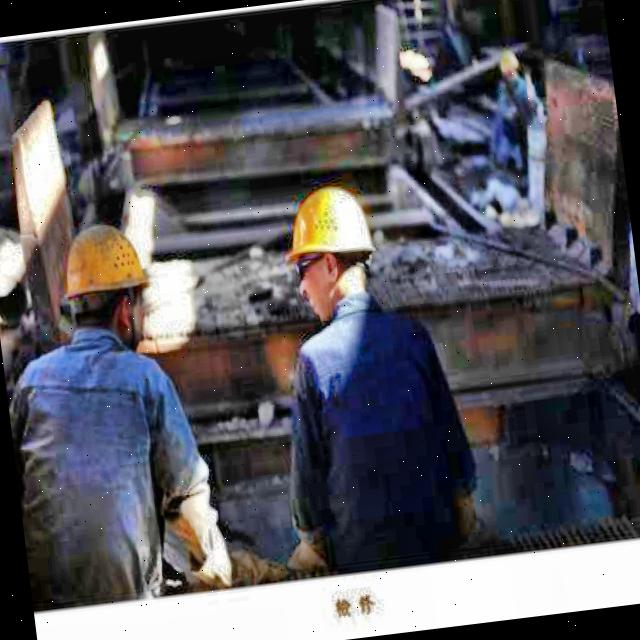helmet: (272, 168, 388, 334), (52, 207, 164, 357)
